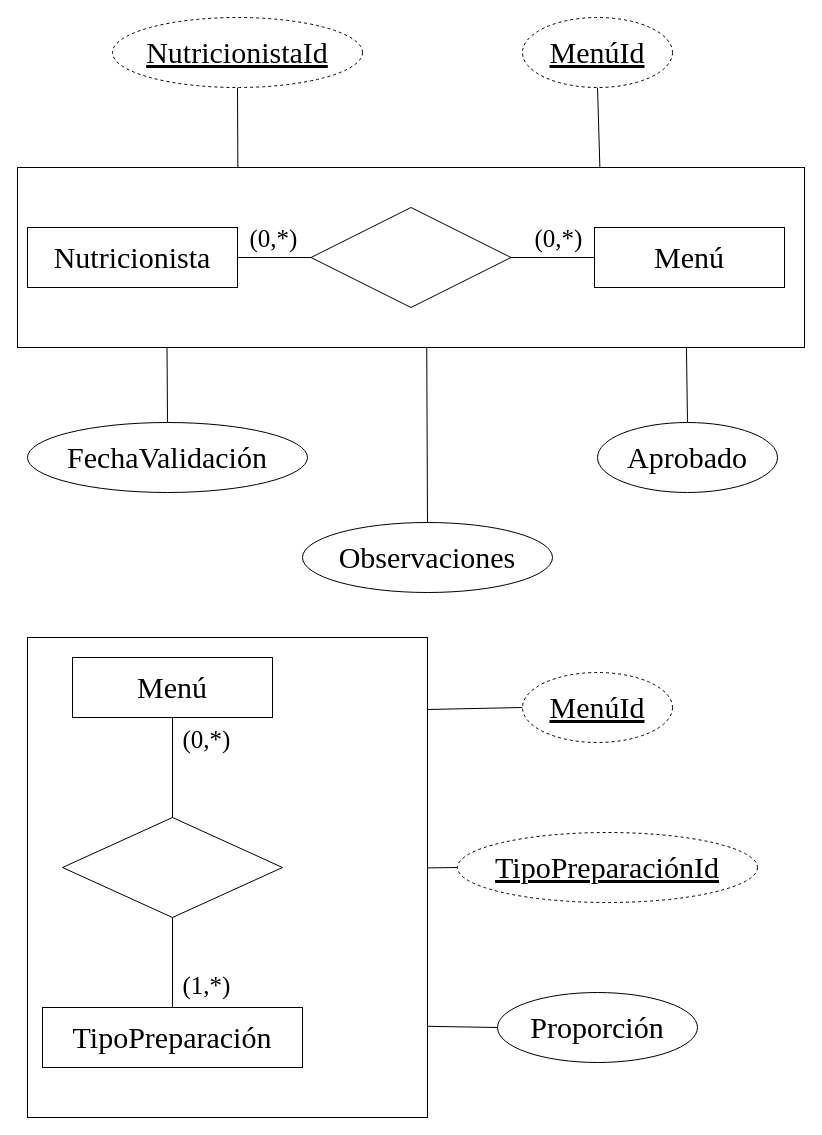
Some shapes in this 822 by 1135 pixel diagram are drawn without their labels. The box of each missing label's shape, as (x1, y1, x2, y2) in pixels:
Distribución: (26, 636, 428, 1118)
Distribuye: (62, 816, 282, 918)
Valida: (310, 206, 511, 308)
Validación: (16, 166, 804, 348)
